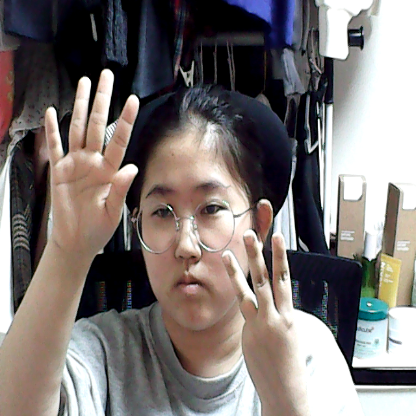Finger_3: (218, 224, 326, 401)
Finger_5: (41, 62, 140, 256)
